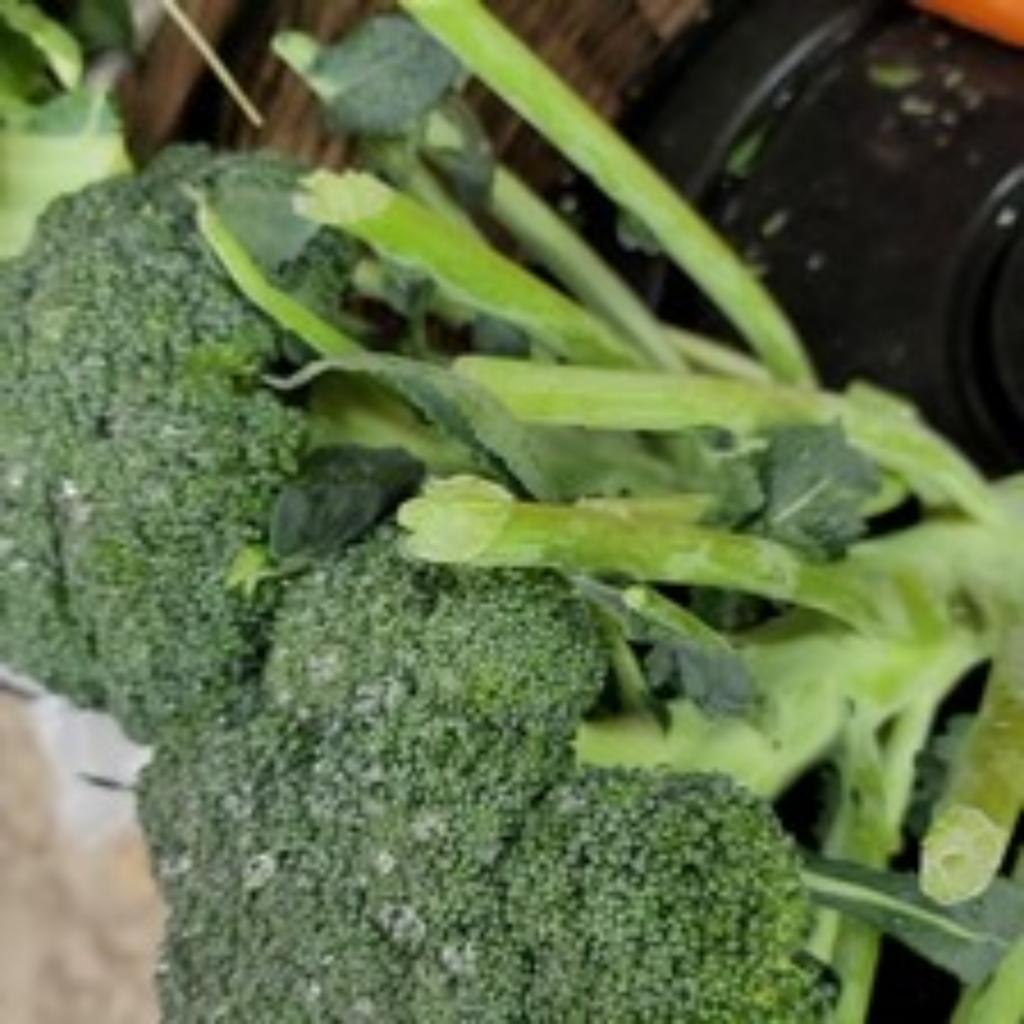Broccoli: (0, 150, 824, 1023), (0, 150, 822, 1023)
